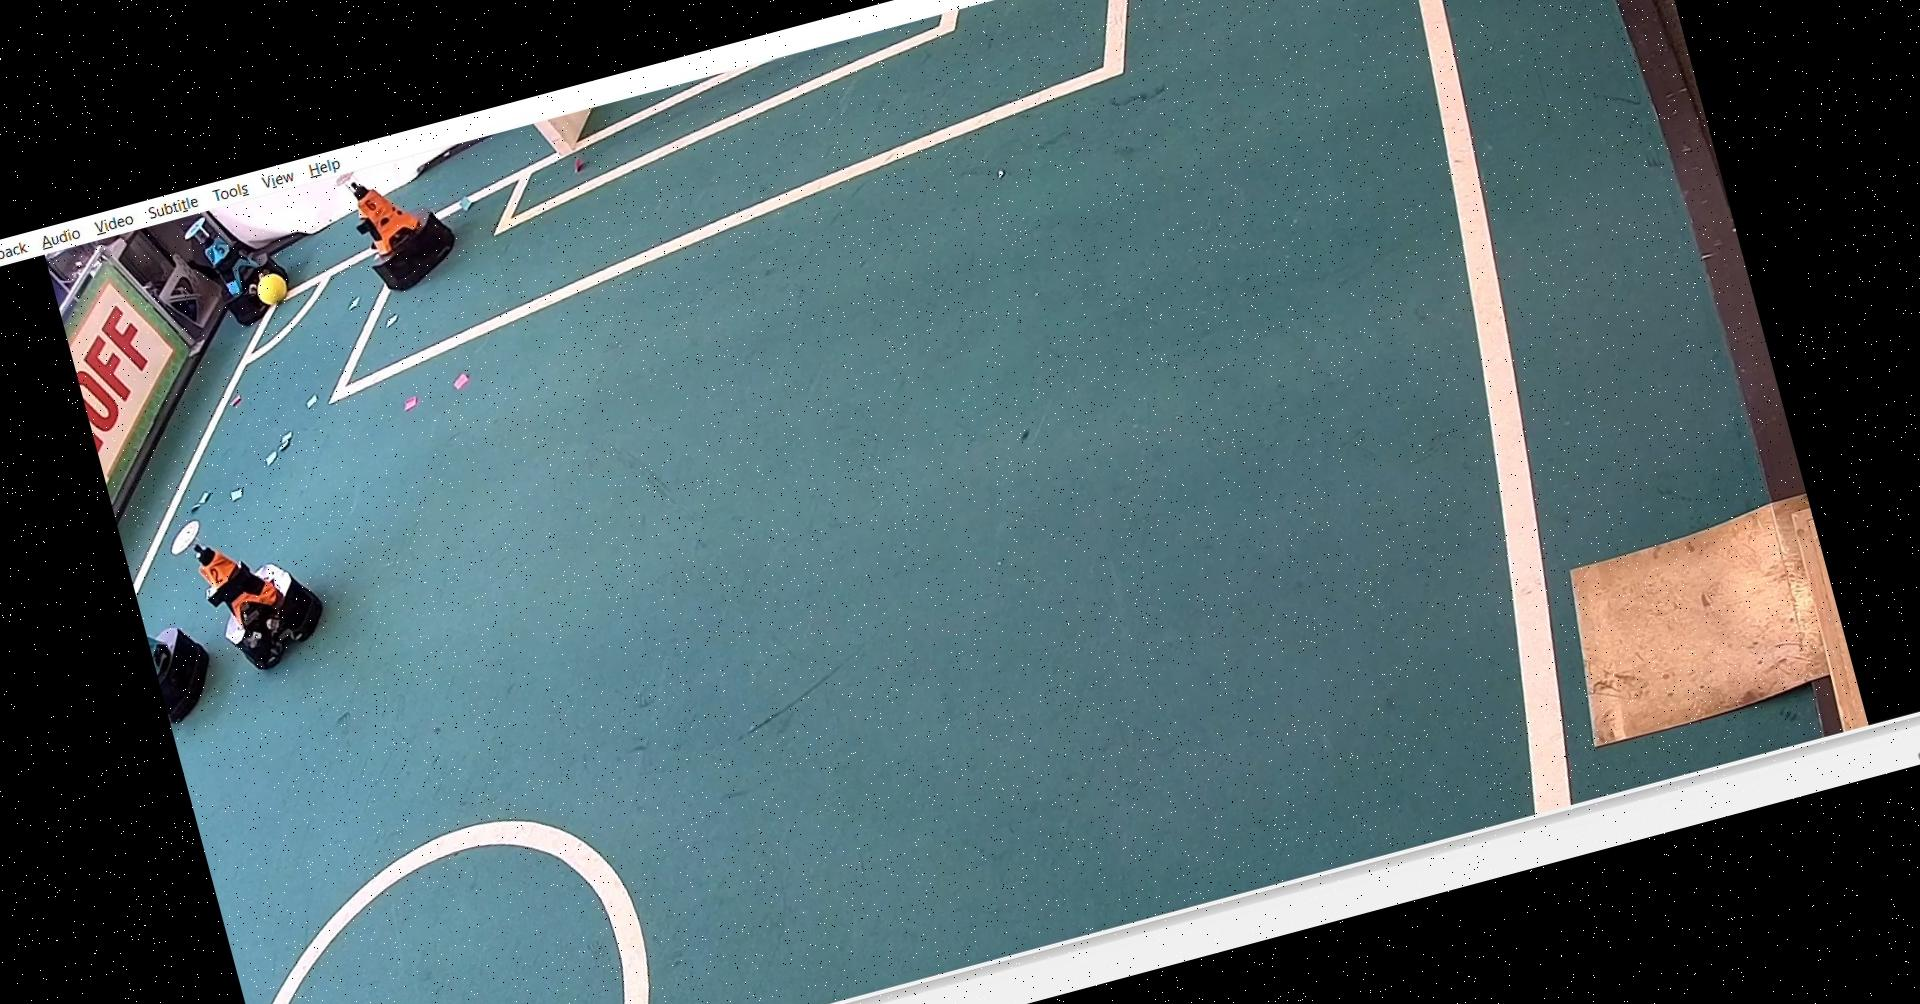Ball: (245, 264, 295, 312)
Team_Blue: (180, 194, 302, 338)
Team_Red: (160, 479, 344, 690), (329, 151, 469, 301)
